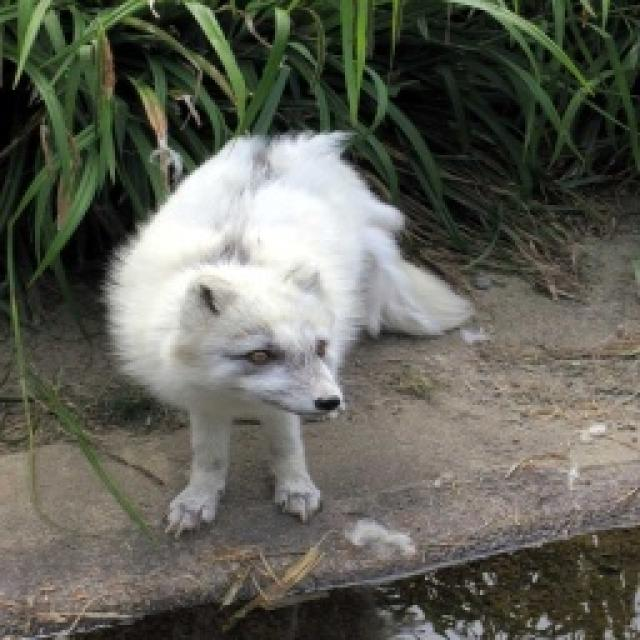Fox: (99, 126, 471, 534)
